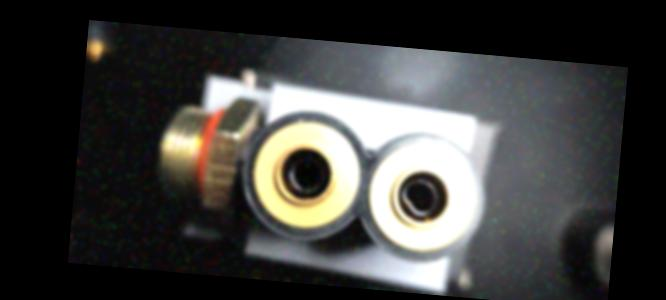off-centered: (397, 173, 442, 218)
